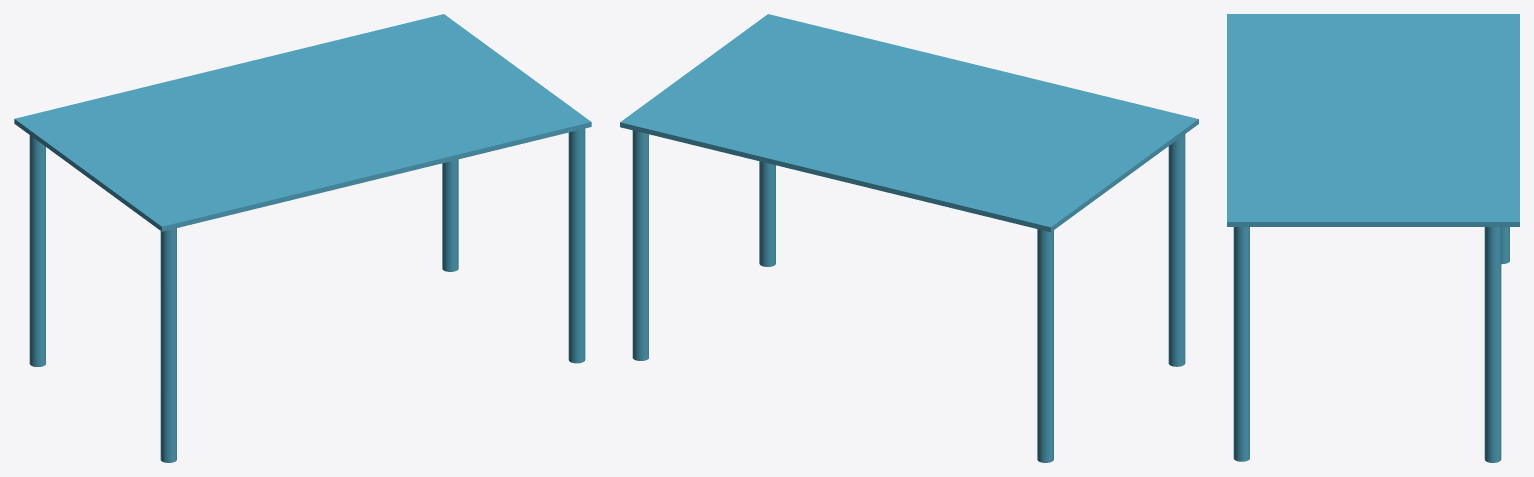
The model's file is DESK.fbx.
3 views of the same model, side by side, from view 1: azimuth 30°, elevation 25°; view 2: azimuth 150°, elevation 25°; view 3: azimuth 270°, elevation 25° (orthographic).
Visible parts, largest first — view 1: pCube2, pCylinder2, pCylinder1, pCylinder3, pCylinder4; view 2: pCube2, pCylinder1, pCylinder3, pCylinder4, pCylinder2; view 3: pCube2, pCylinder4, pCylinder2, pCylinder3.
Boxes of the visible parts, x1=… form: pCube2: x1=14, y1=14, x2=591, y2=231; pCylinder2: x1=568, y1=128, x2=585, y2=363; pCylinder1: x1=160, y1=228, x2=176, y2=462; pCylinder3: x1=29, y1=135, x2=45, y2=366; pCylinder4: x1=442, y1=159, x2=458, y2=271; pCube2: x1=620, y1=14, x2=1198, y2=232; pCylinder1: x1=1168, y1=134, x2=1185, y2=366; pCylinder3: x1=1037, y1=229, x2=1053, y2=462; pCylinder4: x1=632, y1=130, x2=648, y2=360; pCylinder2: x1=759, y1=161, x2=775, y2=266; pCube2: x1=1227, y1=14, x2=1519, y2=226; pCylinder4: x1=1484, y1=227, x2=1501, y2=462; pCylinder2: x1=1233, y1=226, x2=1249, y2=461; pCylinder3: x1=1501, y1=227, x2=1509, y2=264.
Bounding box in the file's own units: 6.52 × 3.52 × 3.88.
